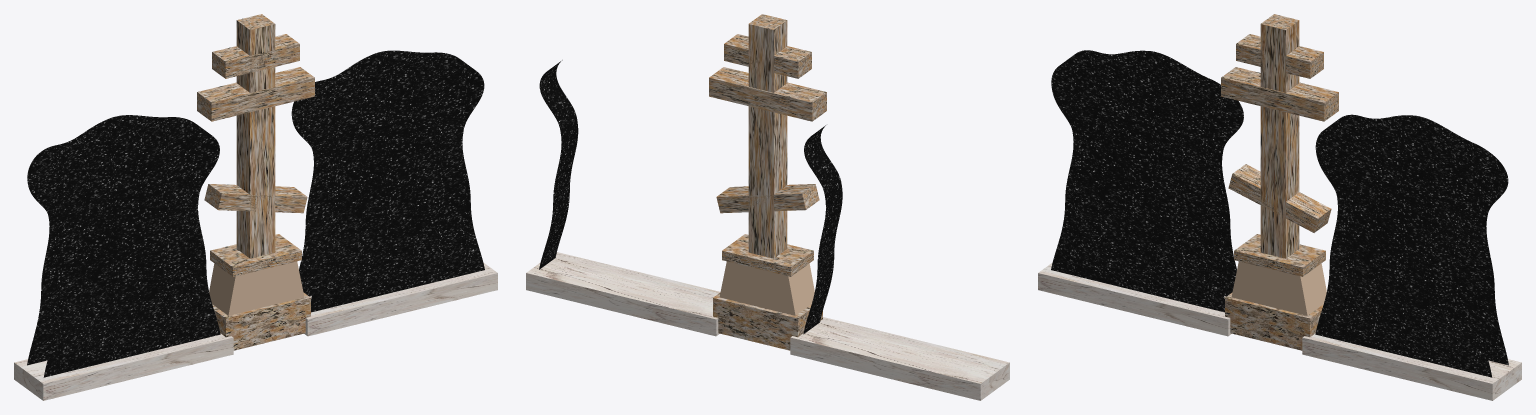
File: stele99.glb
3 views of the same model, side by side, from view 1: azimuth 30°, elevation 25°; view 2: azimuth 150°, elevation 25°; view 3: azimuth 330°, elevation 25° (orthographic).
Parts seen in each view (by area): view 1: 04 | Right shaped black stele.001, 04 | Right shaped black stele, 10 | Cross vertical beam, 05 | Left stele foot, 05 | Right stele foot, 08 | Tapered cross pedestal, 12 | Cross middle bar, 07 | Cross pedestal base, 11 | Cross upper bar, 13 | Cross slanted lower bar, 09 | Pedestal top cap; view 2: 05 | Left stele foot, 05 | Right stele foot, 10 | Cross vertical beam, 08 | Tapered cross pedestal, 04 | Right shaped black stele.001, 04 | Right shaped black stele, 12 | Cross middle bar, 07 | Cross pedestal base, 13 | Cross slanted lower bar, 09 | Pedestal top cap, 11 | Cross upper bar; view 3: 04 | Right shaped black stele, 04 | Right shaped black stele.001, 10 | Cross vertical beam, 05 | Right stele foot, 05 | Left stele foot, 08 | Tapered cross pedestal, 12 | Cross middle bar, 07 | Cross pedestal base, 13 | Cross slanted lower bar, 09 | Pedestal top cap, 11 | Cross upper bar.
Part boxes in pixels (x1,y1,x2,y2): 04 | Right shaped black stele.001: [27, 115, 220, 377]; 04 | Right shaped black stele: [291, 50, 484, 312]; 10 | Cross vertical beam: [236, 14, 275, 258]; 05 | Left stele foot: [14, 333, 233, 400]; 05 | Right stele foot: [304, 262, 497, 336]; 08 | Tapered cross pedestal: [209, 261, 304, 315]; 12 | Cross middle bar: [197, 67, 314, 121]; 07 | Cross pedestal base: [212, 292, 310, 350]; 11 | Cross upper bar: [212, 34, 299, 78]; 13 | Cross slanted lower bar: [204, 184, 307, 213]; 09 | Pedestal top cap: [210, 234, 301, 276]; 05 | Left stele foot: [790, 317, 1009, 400]; 05 | Right stele foot: [526, 252, 720, 336]; 10 | Cross vertical beam: [748, 14, 787, 258]; 08 | Tapered cross pedestal: [719, 261, 814, 315]; 04 | Right shaped black stele.001: [803, 125, 842, 334]; 04 | Right shaped black stele: [539, 60, 578, 269]; 12 | Cross middle bar: [709, 67, 826, 121]; 07 | Cross pedestal base: [713, 292, 822, 350]; 13 | Cross slanted lower bar: [716, 184, 819, 213]; 09 | Pedestal top cap: [722, 234, 813, 276]; 11 | Cross upper bar: [724, 34, 811, 78]; 04 | Right shaped black stele: [1315, 114, 1508, 377]; 04 | Right shaped black stele.001: [1051, 50, 1243, 312]; 10 | Cross vertical beam: [1260, 14, 1299, 258]; 05 | Right stele foot: [1302, 333, 1521, 400]; 05 | Left stele foot: [1038, 262, 1231, 336]; 08 | Tapered cross pedestal: [1231, 261, 1326, 315]; 12 | Cross middle bar: [1221, 67, 1338, 121]; 07 | Cross pedestal base: [1225, 292, 1323, 350]; 13 | Cross slanted lower bar: [1228, 164, 1331, 232]; 09 | Pedestal top cap: [1234, 234, 1325, 276]; 11 | Cross upper bar: [1236, 34, 1323, 78].
Bounding box in the file's own units: 1.25 × 0.8252 × 0.14.
Materials: 3 (3 with a texture image).
